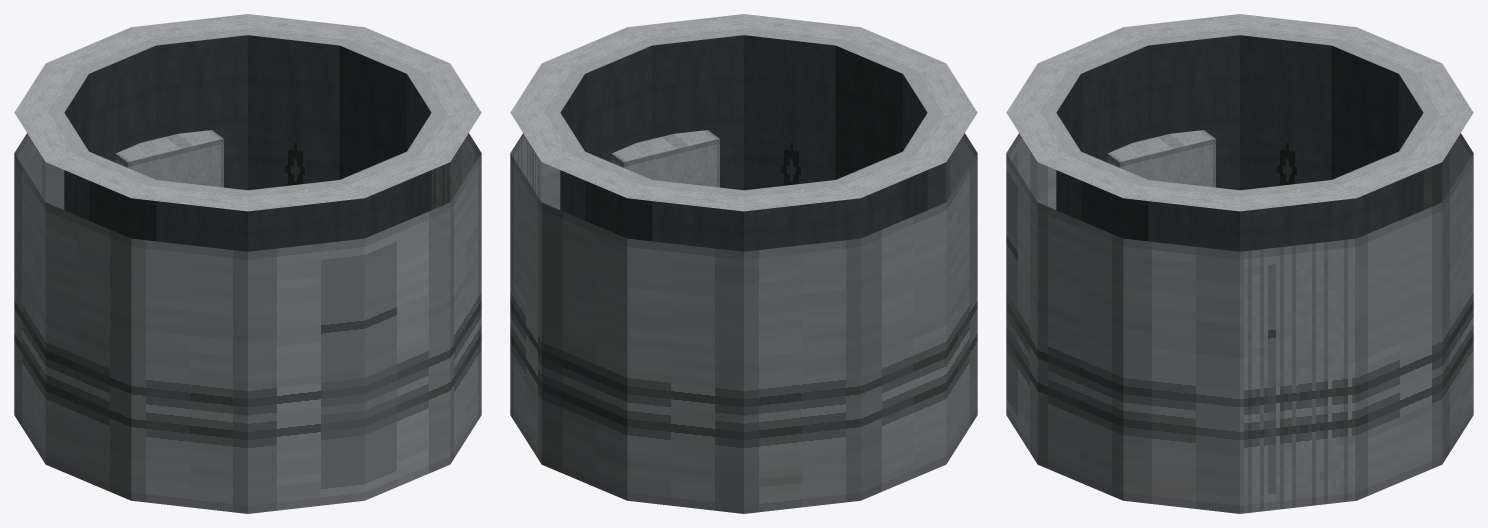
File: washer_drum.glb
The picture shows the model from 3 angles, left to right: view 1: azimuth 30°, elevation 25°; view 2: azimuth 150°, elevation 25°; view 3: azimuth 270°, elevation 25°; orthographic projection.
Visible parts, largest first — view 1: core_washer_drum; view 2: core_washer_drum; view 3: core_washer_drum.
Boxes of the visible parts, bbox=[...] form: core_washer_drum: bbox=[14, 14, 481, 513]; core_washer_drum: bbox=[510, 14, 977, 513]; core_washer_drum: bbox=[1006, 14, 1473, 513].
Bounding box in the file's own units: 0.42 × 0.3 × 0.42.
1 material, 1 textured.
